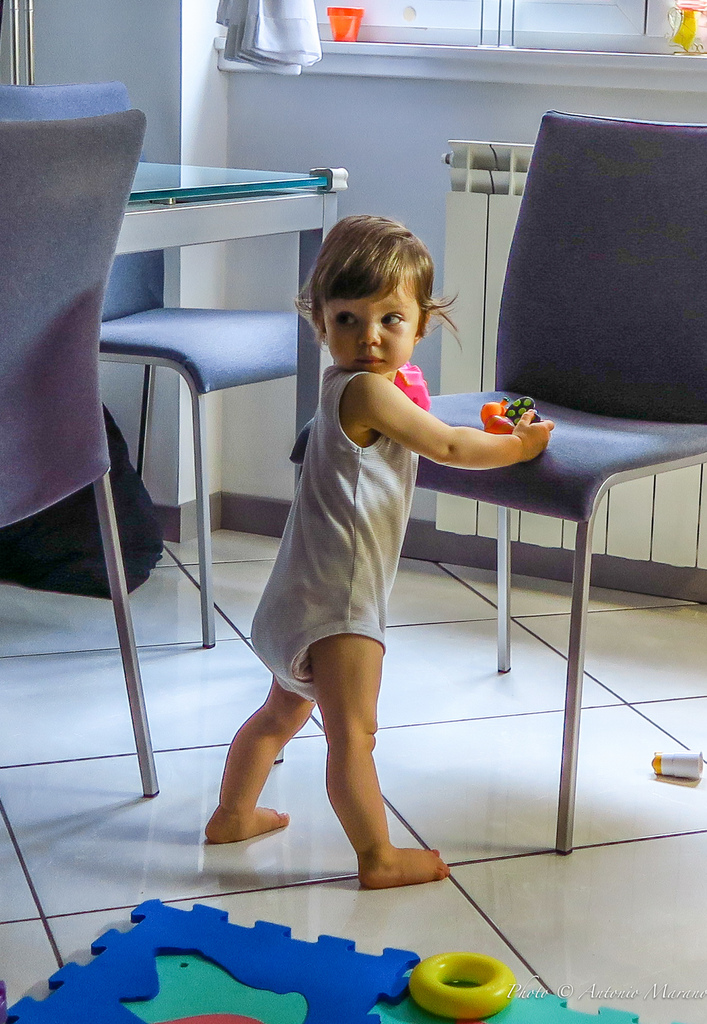Chair: (289, 100, 704, 851), (3, 88, 165, 795), (87, 251, 307, 652)
